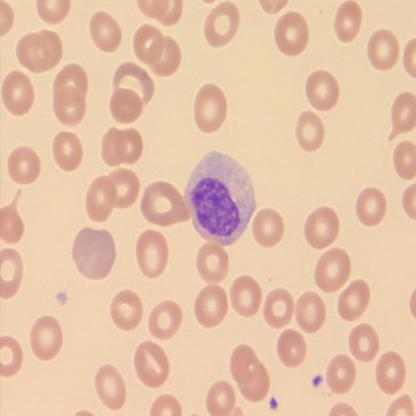Metamyelocyte: (183, 146, 259, 246)
